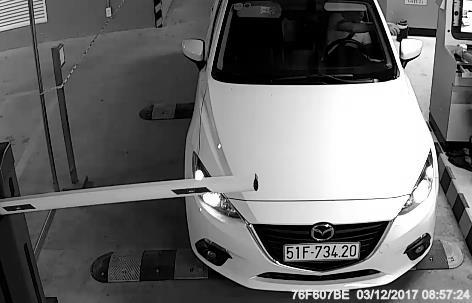License-plate: (278, 232, 366, 270)
